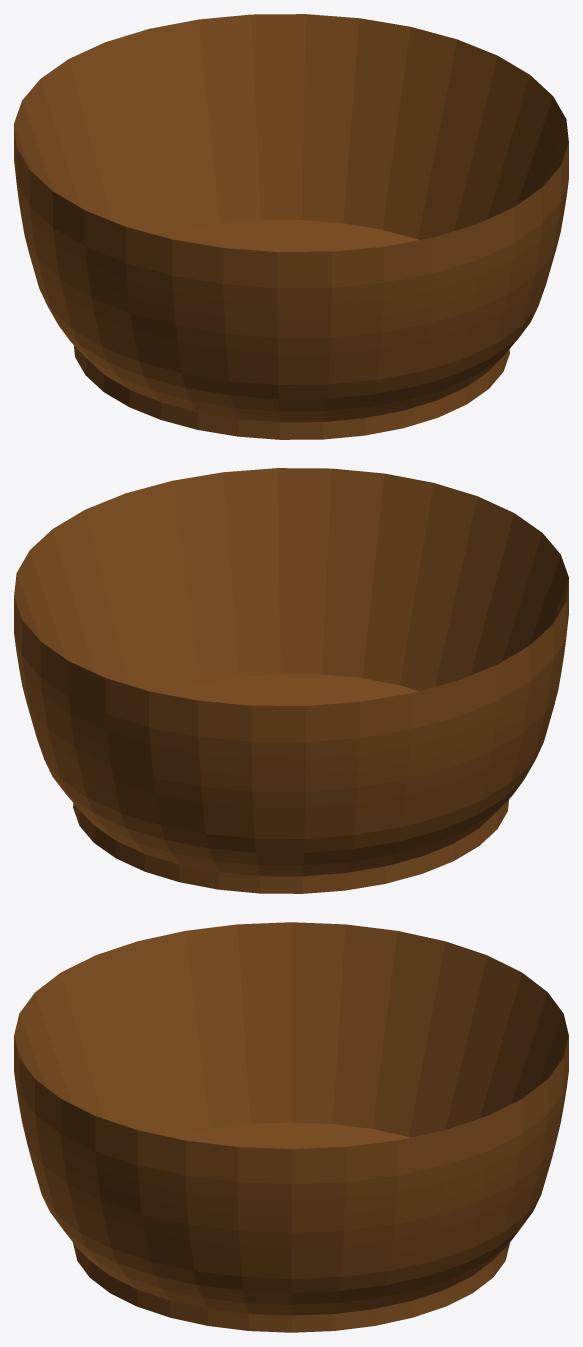
Rendered from bowl.fbx.
3 views of the same model, one above another, from view 1: azimuth 30°, elevation 25°; view 2: azimuth 150°, elevation 25°; view 3: azimuth 270°, elevation 25° (orthographic). The views are drawn at different scales.
Parts seen in each view (by area): view 1: Cylinder; view 2: Cylinder; view 3: Cylinder.
Part boxes in pixels (bbox=[...]): Cylinder: bbox=[14, 14, 568, 439]; Cylinder: bbox=[14, 468, 568, 893]; Cylinder: bbox=[14, 922, 568, 1332].
Bounding box in the file's own units: 189 × 80.73 × 195.
